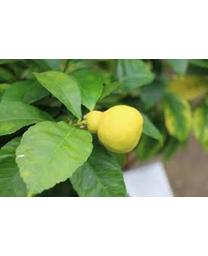lemon: (85, 105, 141, 153)
